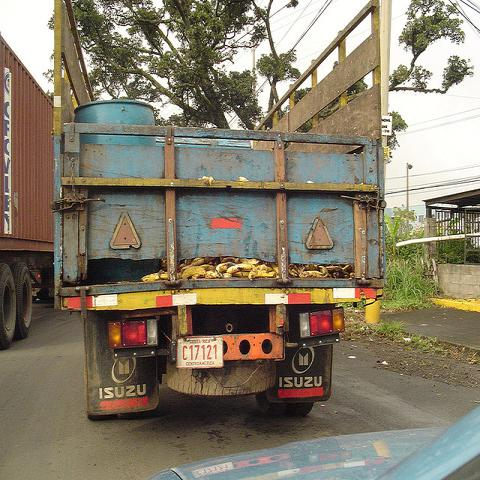car: (164, 410, 478, 471)
truck: (52, 0, 390, 421), (2, 31, 54, 350)
